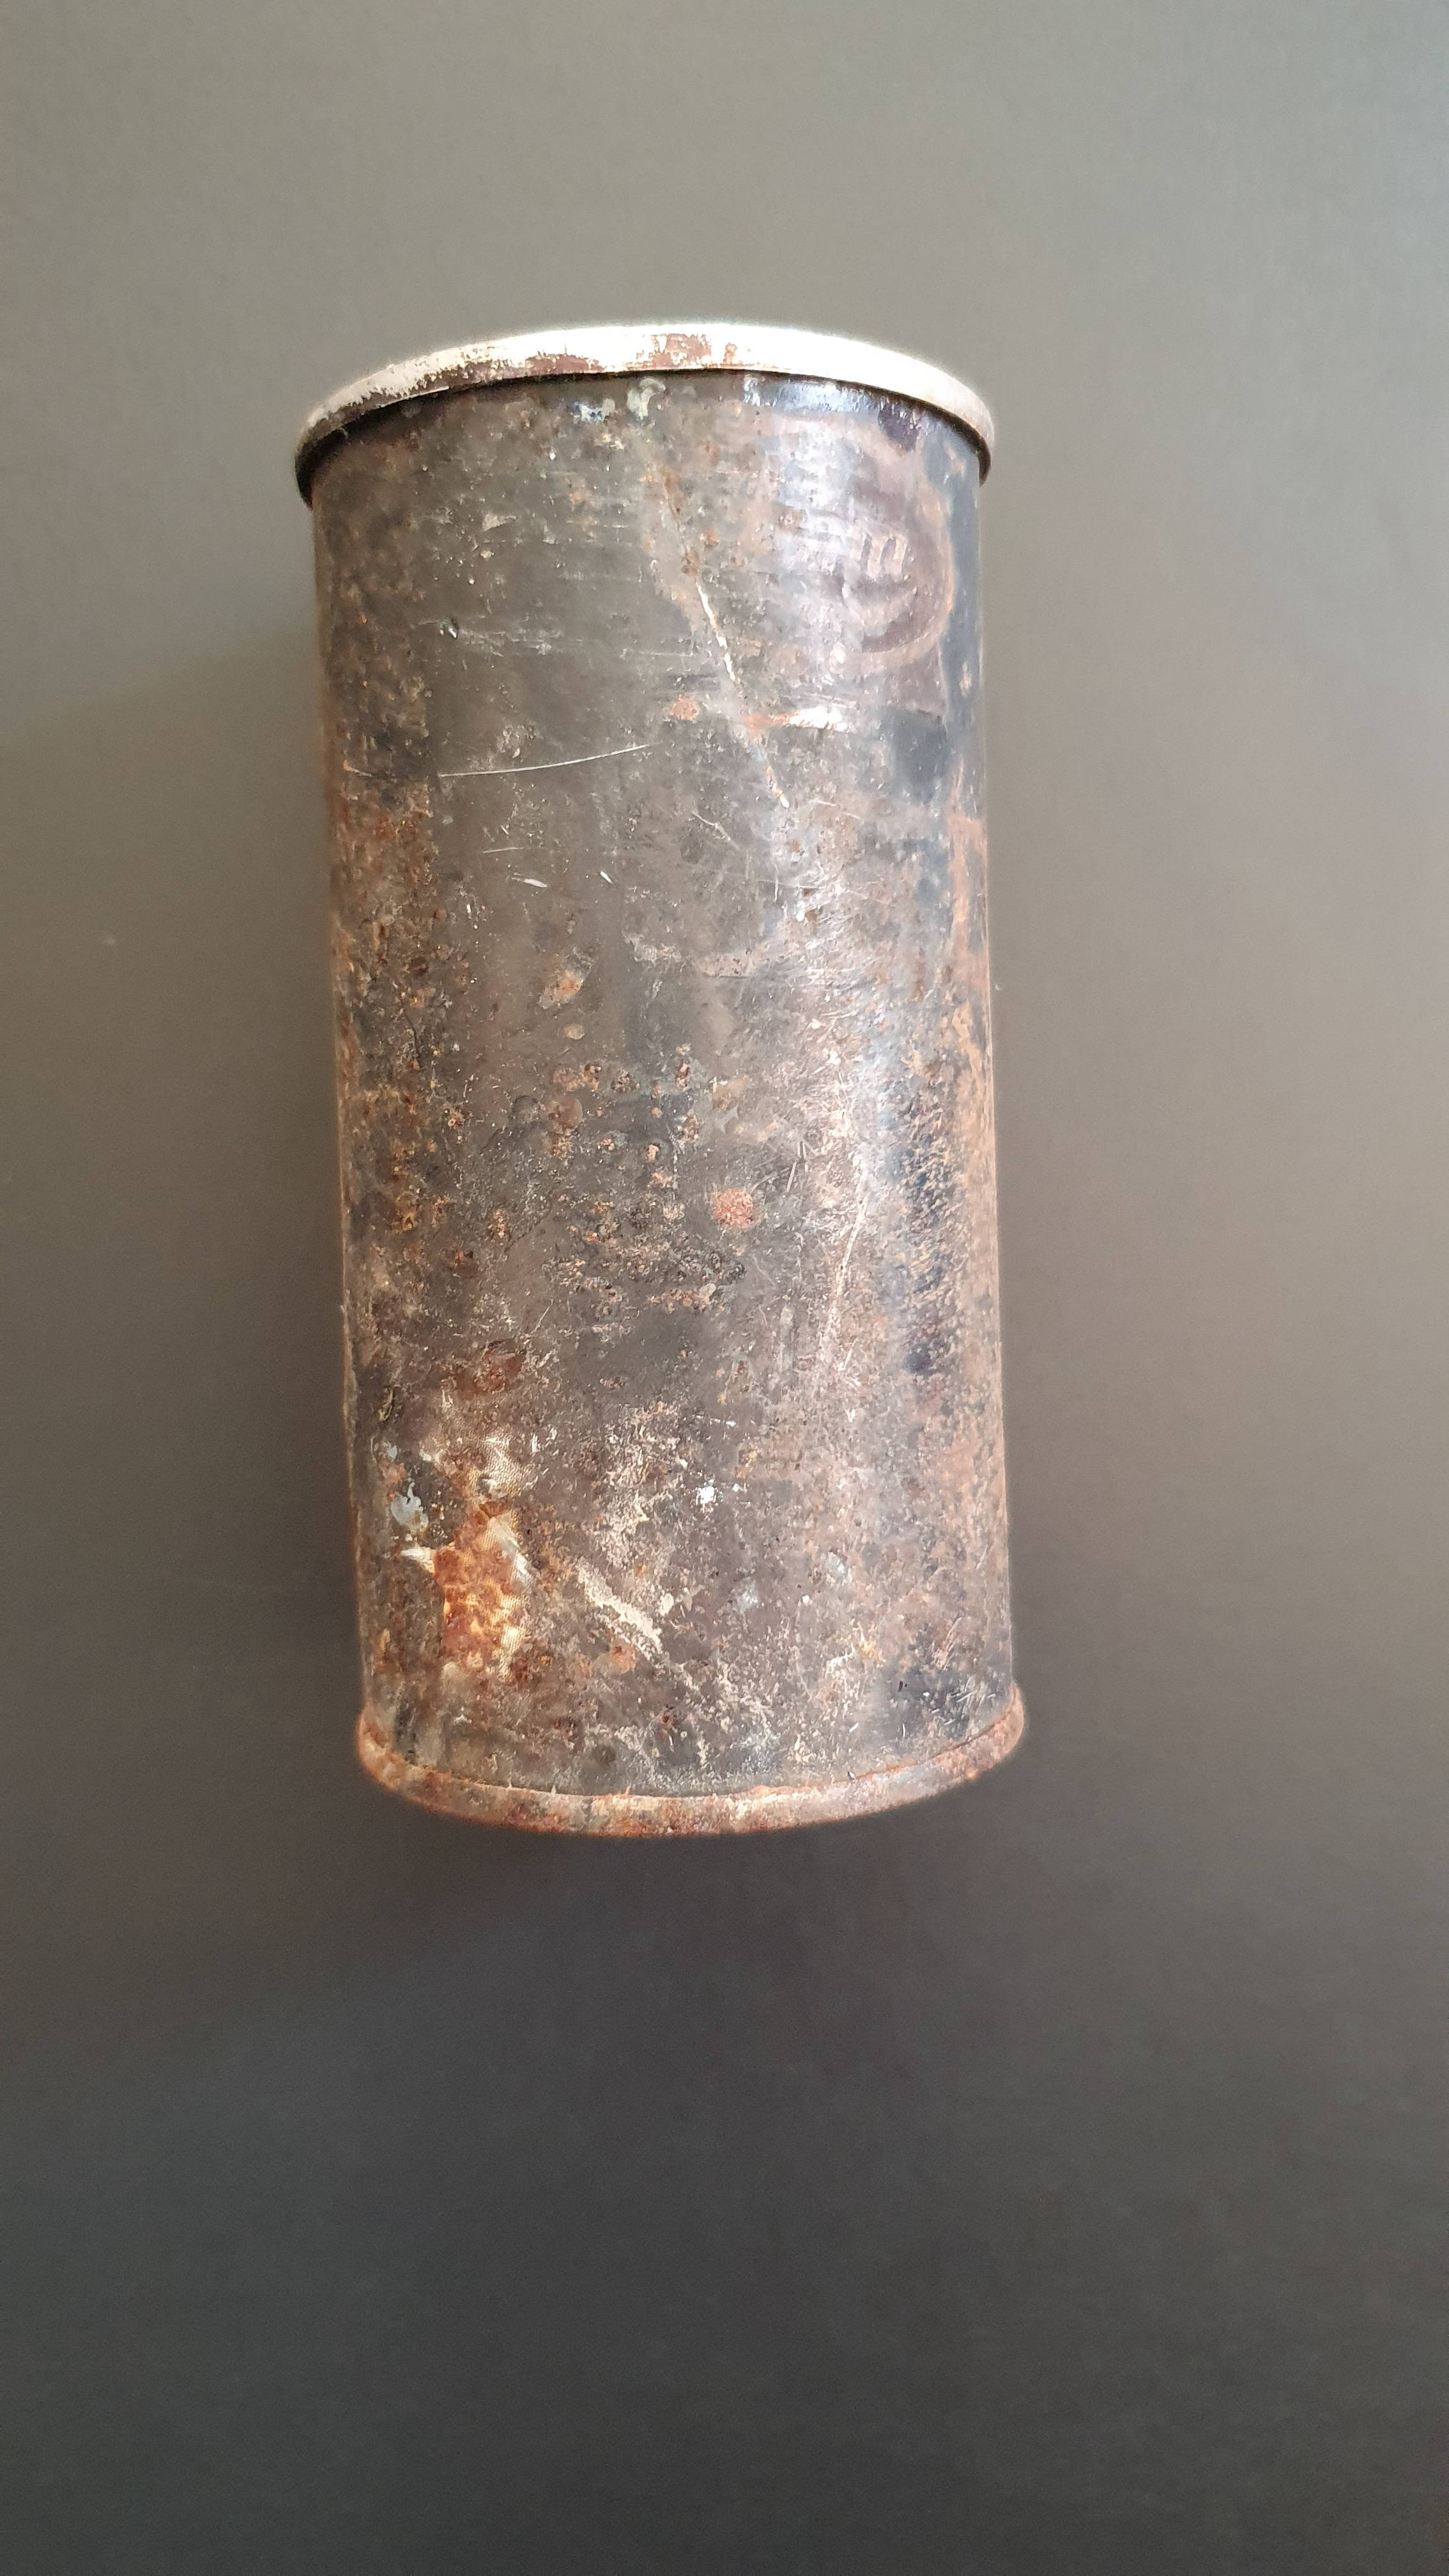metal: (246, 288, 1090, 1925)
